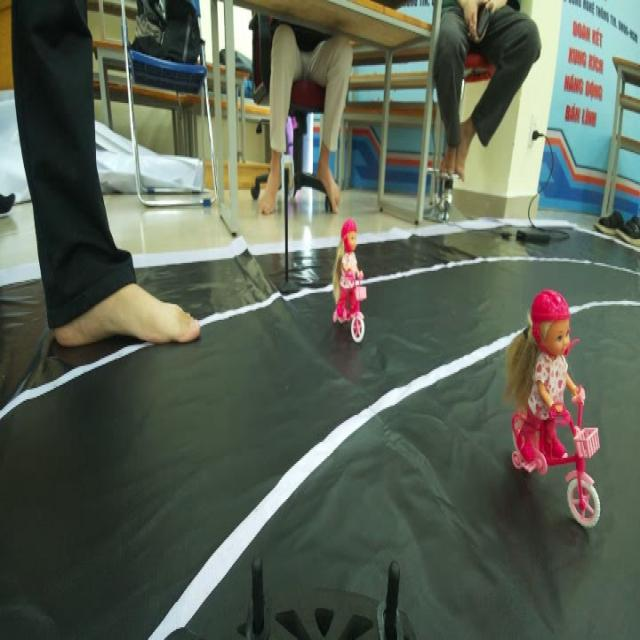pedestrian: (494, 292, 609, 527), (326, 208, 379, 350)
